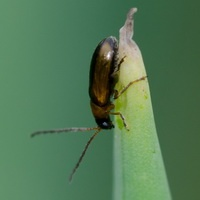insect: (31, 36, 146, 181)
